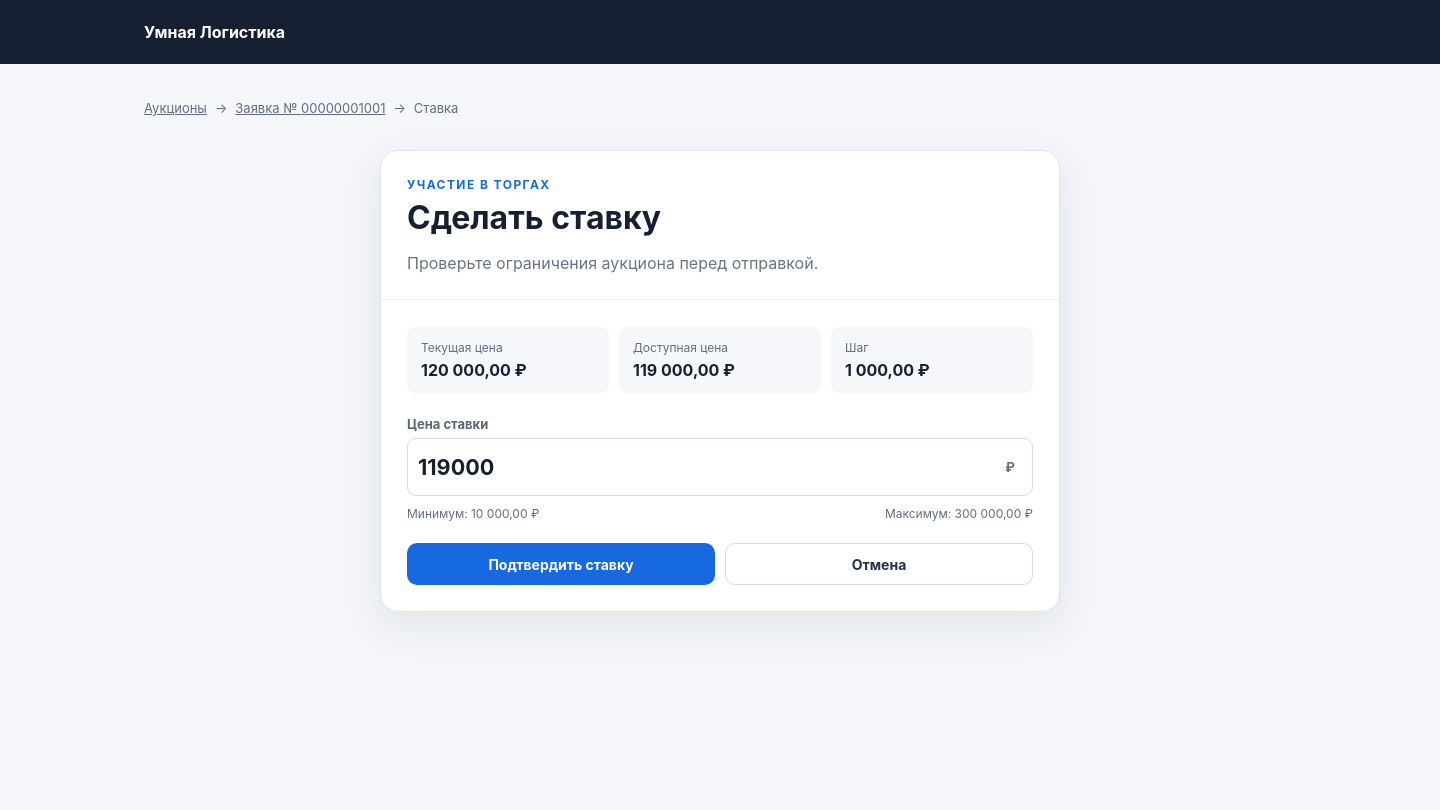
Test: AuctionBetPage › validates price 0 locally without sending a mutation
The width and height of the screenshot is (1440, 810).
Replace the text in the number field labelled "Цена ставки" with "0" at (720, 467), box [407,438,1033,496]
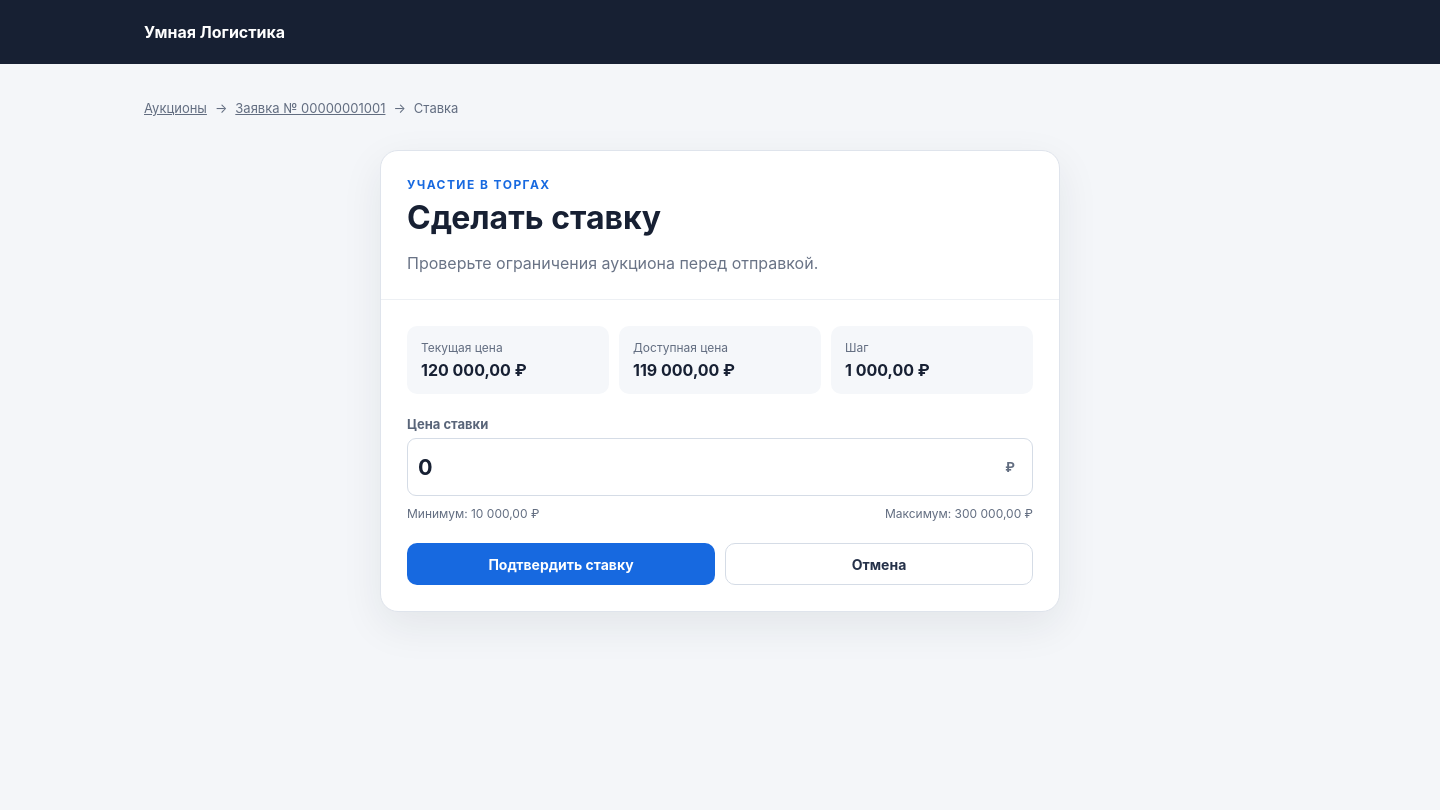
Click the button "Подтвердить ставку" at (561, 564), box [407,543,715,585]
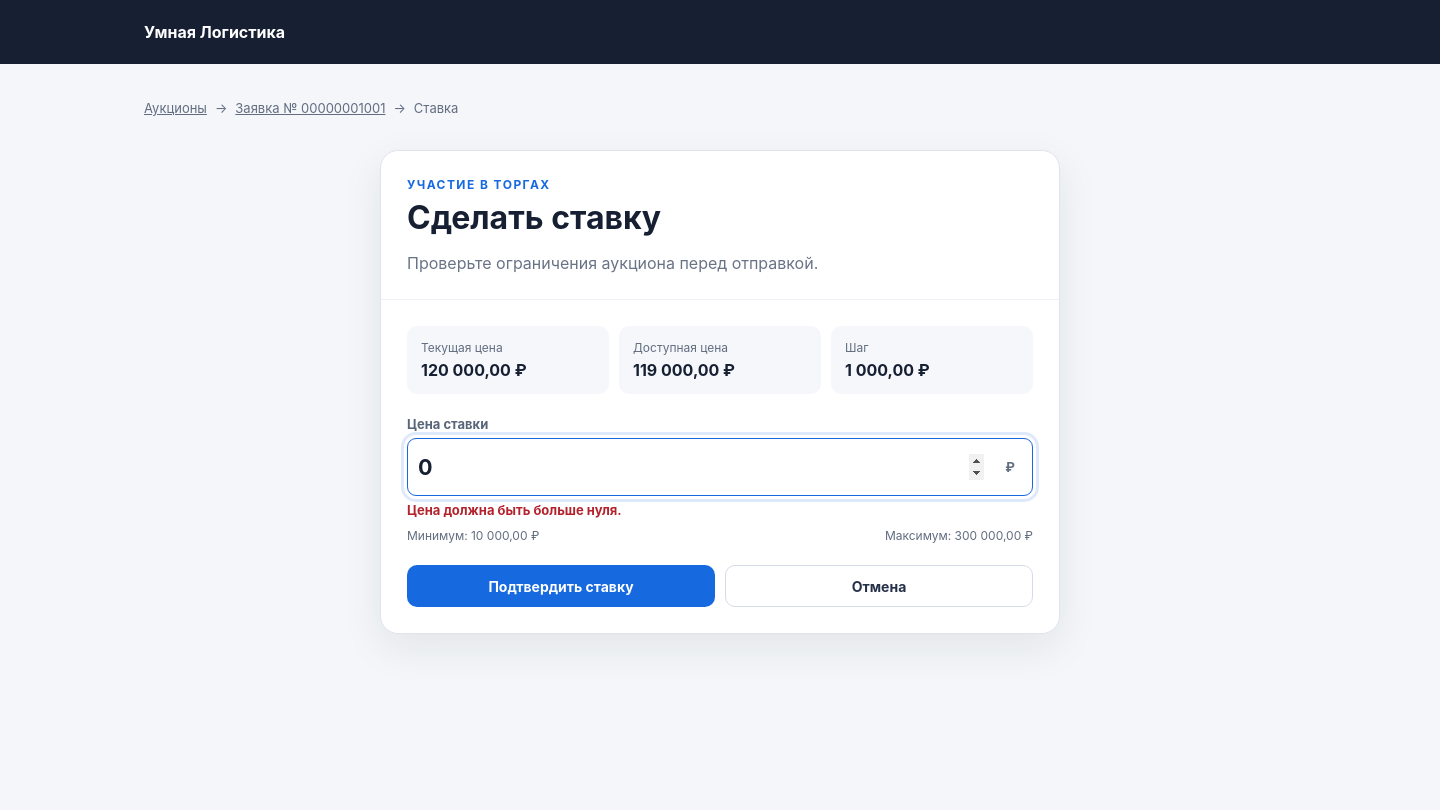
Expected: the text "Цена должна быть больше нуля." is shown, [407,502,622,518]
